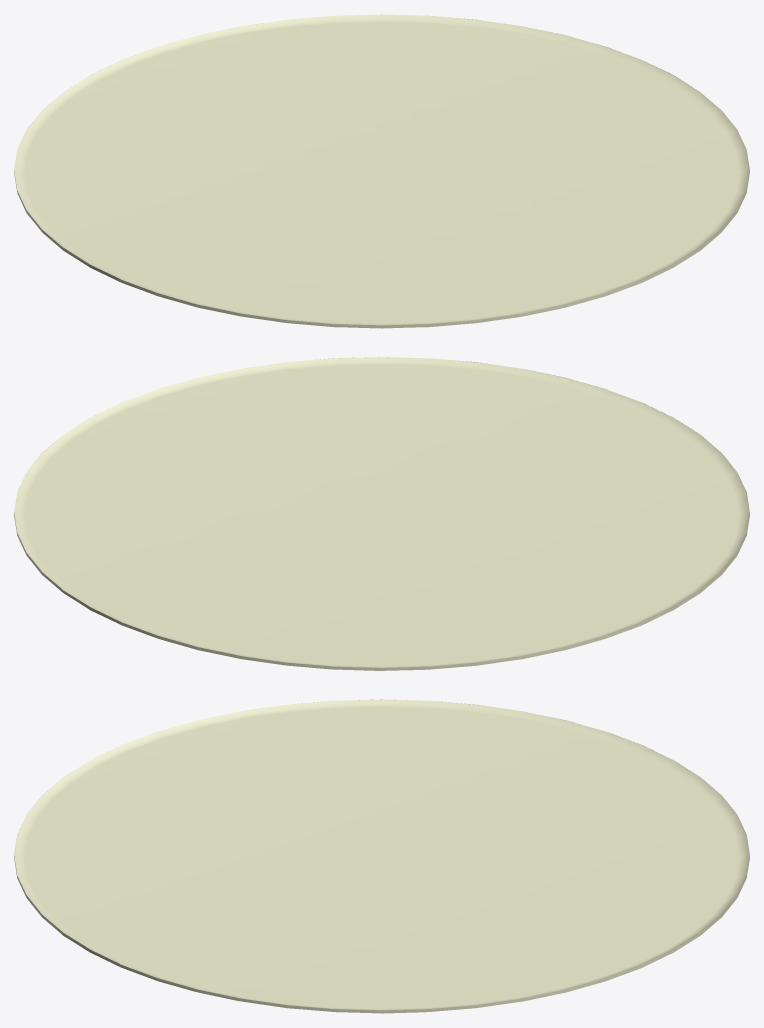
File: original-16.obj
The picture shows the model from 3 angles, top to bottom: view 1: azimuth 30°, elevation 25°; view 2: azimuth 150°, elevation 25°; view 3: azimuth 270°, elevation 25°; orthographic projection.
Parts seen in each view (by area): view 1: #ID2478; view 2: #ID2478; view 3: #ID2478.
Part boxes in pixels (x1,y1,x2,y2): #ID2478: (14,14,749,328); #ID2478: (14,357,749,670); #ID2478: (14,699,749,1013).
Size of the model in its own units: 0.6069 by 0.00287 by 0.607.
